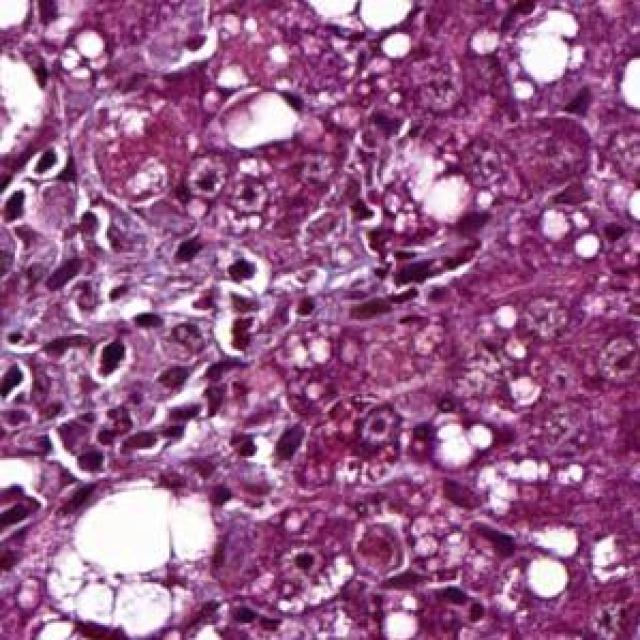ballooning: (40, 481, 229, 640), (488, 10, 597, 100)
